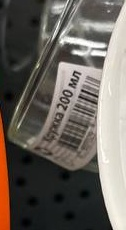1d: (57, 73, 101, 154)
